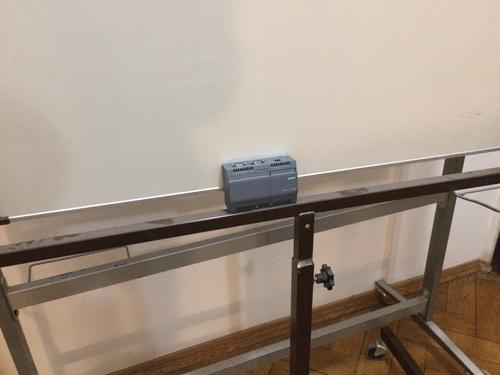iot2000: (220, 154, 298, 213)
